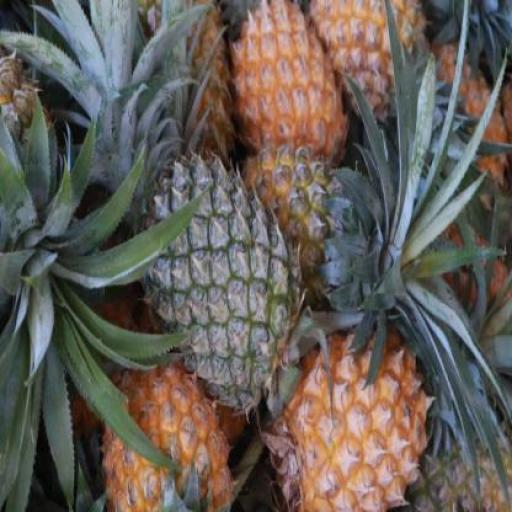Pineapple - v8 v1: (274, 336, 425, 512), (96, 360, 228, 511), (231, 0, 344, 171), (308, 0, 424, 126)
